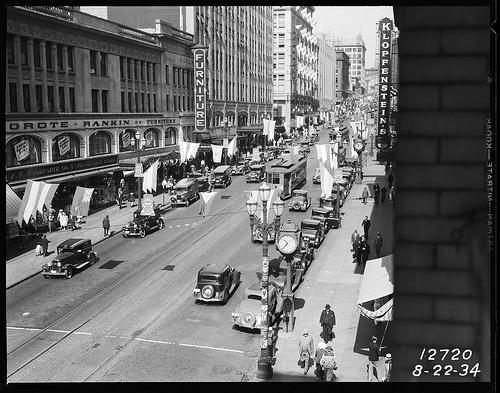bus: (262, 154, 308, 201)
car: (230, 280, 280, 329), (42, 237, 98, 279), (195, 264, 241, 306), (123, 206, 164, 239), (172, 178, 200, 206), (310, 208, 338, 234), (301, 219, 325, 248), (210, 165, 232, 188), (289, 189, 312, 210), (245, 164, 266, 184), (320, 195, 338, 218), (231, 160, 250, 176), (313, 169, 322, 184)
